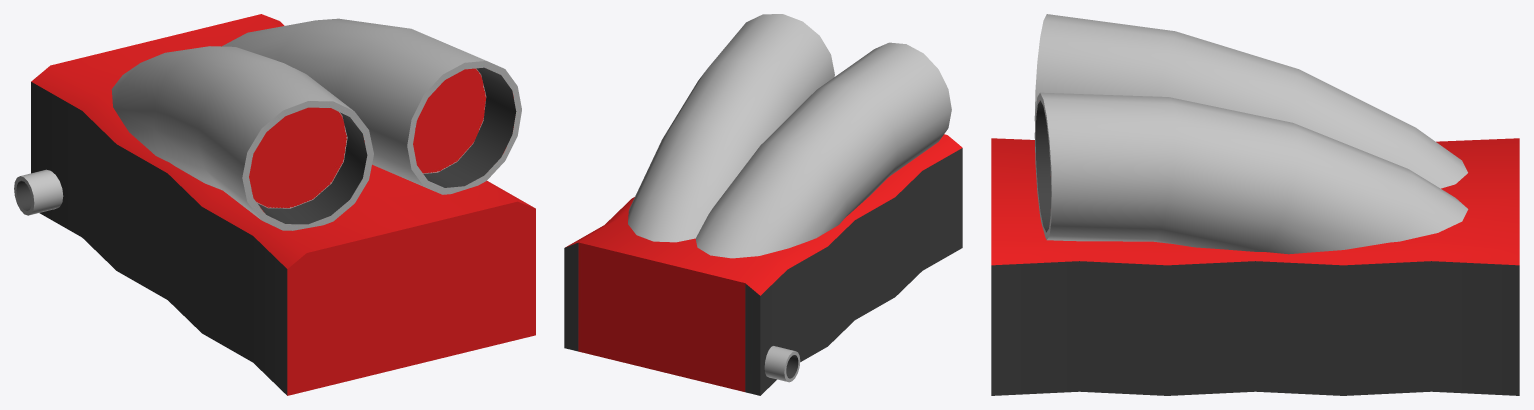
The model's file is Supercharger.fbx.
The picture shows the model from 3 angles, left to right: view 1: azimuth 30°, elevation 25°; view 2: azimuth 150°, elevation 25°; view 3: azimuth 270°, elevation 25°; orthographic projection. The views are drawn at different scales.
Visible parts, largest first — view 1: Cube, Cylinder_3, Cylinder; view 2: Cylinder_3, Cube, Cylinder; view 3: Cube, Cylinder_3.
Boxes of the visible parts, <box> form: Cube: <box>31,14,535,395</box>; Cylinder_3: <box>111,18,521,230</box>; Cylinder: <box>14,169,63,215</box>; Cylinder_3: <box>628,14,951,258</box>; Cube: <box>564,134,962,395</box>; Cylinder: <box>764,346,800,382</box>; Cube: <box>991,138,1519,395</box>; Cylinder_3: <box>1034,14,1468,254</box>.
Size of the model in its own units: 27 by 23.77 by 41.63.
1 material, 1 textured.
